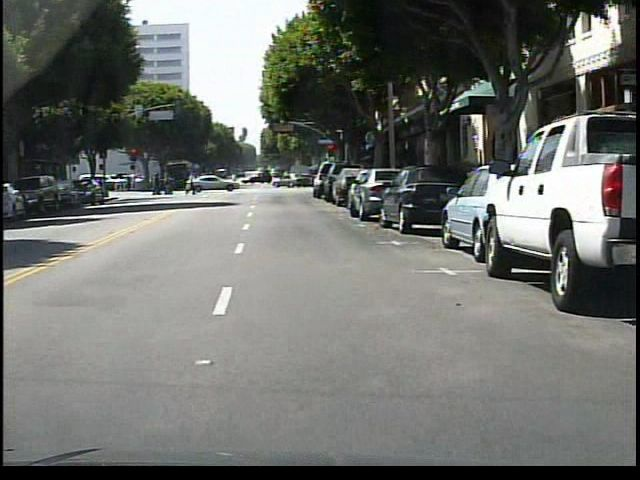person: (186, 167, 206, 196)
